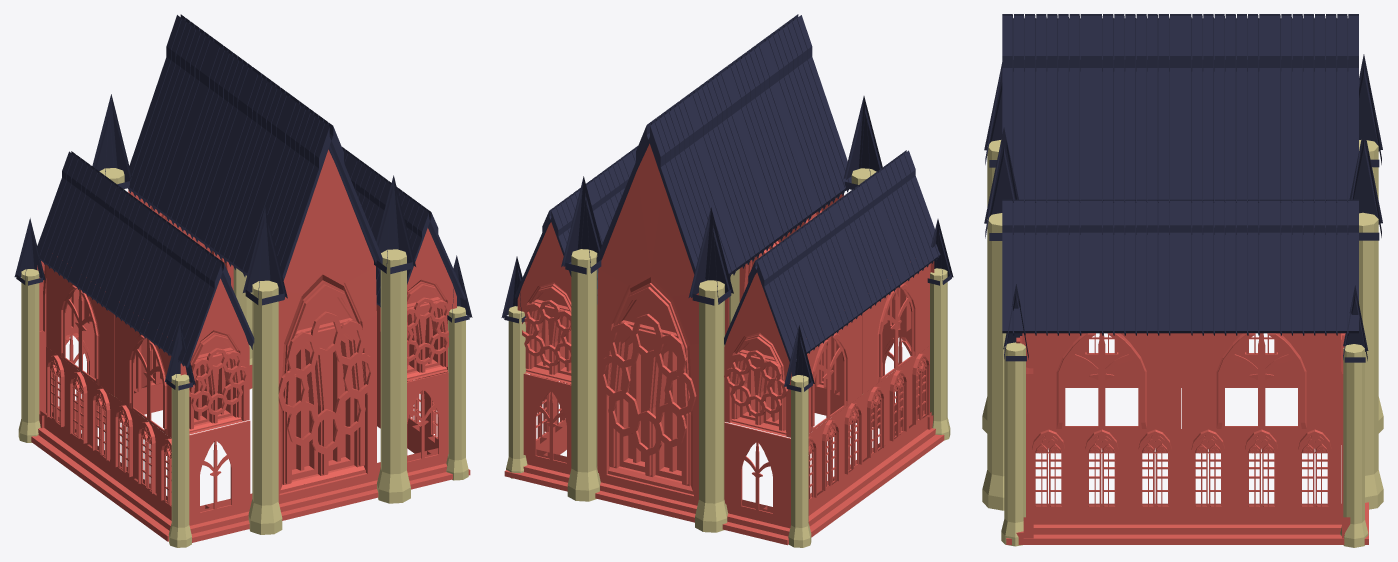
Rendered from church.fbx.
3 renders of one model, left to right at view 1: azimuth 30°, elevation 25°; view 2: azimuth 150°, elevation 25°; view 3: azimuth 270°, elevation 25°, orthographic. The views are drawn at different scales.
Parts seen in each view (by area): view 1: twosideroof.001, bigcirclewindow.001, twosideroof.002, Cylinder.011, Cylinder.010, bigcirclewindow.002, bottom.001, bigcirclewindow.003, bottom.003, gwindow.008, pillarwindow.012, twosideroof.003 (+19 smaller); view 2: twosideroof.001, bigcirclewindow.004, twosideroof.002, bigcirclewindow.005, Cylinder.008, Cylinder.009, bottom.002, bigcirclewindow.006, bottom.003, gwindow.007, pillarwindow.014, pillarwindow.011 (+19 smaller); view 3: twosideroof.001, twosideroof.003, bottom.004, pillarwindow.010, gwindow.006, gwindow.005, pillarwindow.009, Cylinder.010, Cylinder.008, Cylinder.015, Cylinder.014, bottom.003 (+8 smaller).
Boxes of the visible parts, bbox=[...] form: twosideroof.001: bbox=[124, 14, 382, 294]; bigcirclewindow.001: bbox=[278, 149, 376, 495]; twosideroof.002: bbox=[37, 151, 254, 367]; Cylinder.011: bbox=[248, 280, 282, 534]; Cylinder.010: bbox=[377, 249, 410, 503]; bigcirclewindow.002: bbox=[180, 278, 249, 434]; bottom.001: bbox=[189, 448, 470, 542]; bigcirclewindow.003: bbox=[407, 228, 456, 381]; bottom.003: bbox=[31, 409, 171, 541]; gwindow.008: bbox=[46, 347, 114, 462]; pillarwindow.012: bbox=[46, 253, 114, 396]; twosideroof.003: bbox=[342, 147, 465, 307]; twosideroof.001: bbox=[596, 14, 851, 280]; bigcirclewindow.004: bbox=[597, 143, 698, 497]; twosideroof.002: bbox=[724, 150, 940, 362]; bigcirclewindow.005: bbox=[724, 272, 791, 437]; Cylinder.008: bbox=[567, 249, 600, 501]; Cylinder.009: bbox=[695, 280, 728, 532]; bottom.002: bbox=[504, 449, 790, 545]; bigcirclewindow.006: bbox=[517, 222, 571, 383]; bottom.003: bbox=[808, 410, 944, 537]; gwindow.007: bbox=[862, 345, 929, 459]; pillarwindow.014: bbox=[724, 422, 790, 519]; pillarwindow.011: bbox=[862, 263, 930, 393]; twosideroof.001: bbox=[1002, 14, 1358, 202]; twosideroof.003: bbox=[1002, 199, 1358, 335]; bottom.004: bbox=[1023, 503, 1344, 544]; pillarwindow.010: bbox=[1182, 333, 1341, 428]; gwindow.006: bbox=[1181, 429, 1341, 508]; gwindow.005: bbox=[1026, 429, 1181, 508]; pillarwindow.009: bbox=[1022, 333, 1181, 428]; Cylinder.010: bbox=[982, 213, 1006, 510]; Cylinder.008: bbox=[1359, 212, 1383, 509]; Cylinder.015: bbox=[1340, 344, 1368, 547]; Cylinder.014: bbox=[1001, 342, 1025, 546]; bottom.003: bbox=[1065, 354, 1297, 387].
Size of the model in its own units: 3090 by 3735 by 3009.
